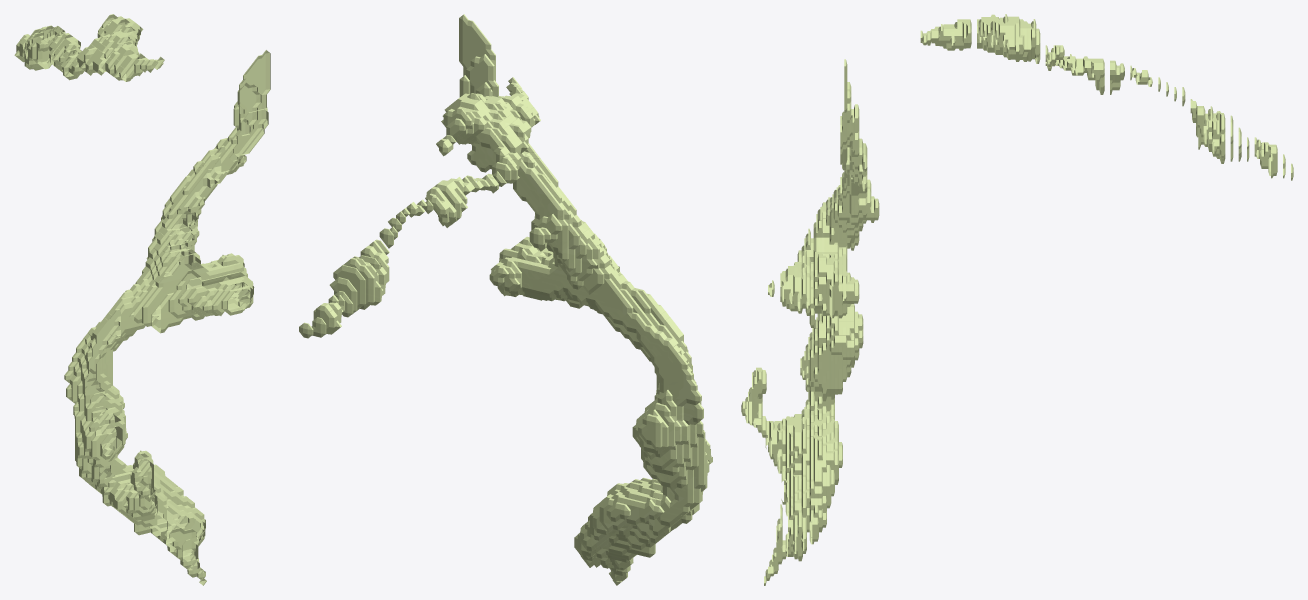
File: SVV_URXL.gltf
The picture shows the model from 3 angles, left to right: view 1: azimuth 30°, elevation 25°; view 2: azimuth 150°, elevation 25°; view 3: azimuth 270°, elevation 25°; orthographic projection. The views are drawn at different scales.
Visible parts, largest first — view 1: URXL; view 2: URXL; view 3: URXL.
Boxes of the visible parts, left/top/right/bottom form: URXL: left=14, top=14, right=270, bottom=585; URXL: left=299, top=14, right=712, bottom=585; URXL: left=741, top=14, right=1293, bottom=585.
Size of the model in its own units: 27146 by 61469 by 52761.
